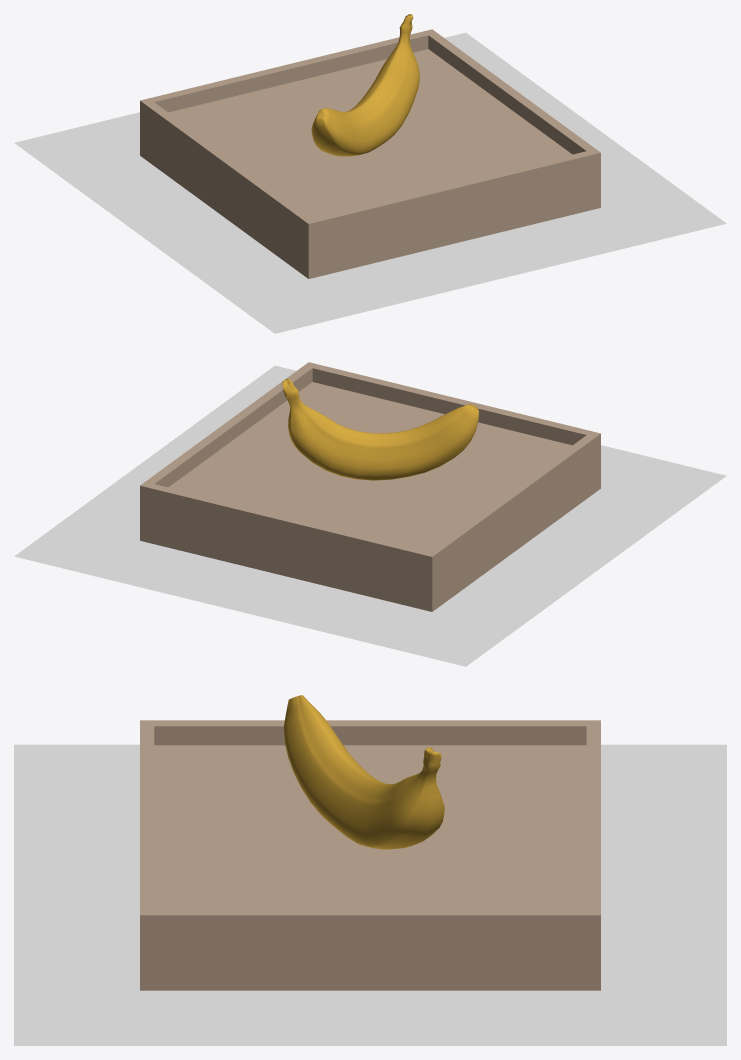
Rendered from banana.dae.
3 views of the same model, one above another, from view 1: azimuth 30°, elevation 25°; view 2: azimuth 150°, elevation 25°; view 3: azimuth 270°, elevation 25° (orthographic). The views are drawn at different scales.
Parts seen in each view (by area): view 1: Mesh, Plane, Mesh__2___2__001; view 2: Mesh, Plane, Mesh__2___2__001; view 3: Mesh, Plane, Mesh__2___2__001.
Boxes of the visible parts, x1,y1,x2,y2 form: Mesh: (140, 29, 600, 278); Plane: (14, 32, 726, 333); Mesh__2___2__001: (311, 14, 419, 156); Mesh: (140, 362, 600, 611); Plane: (14, 365, 726, 666); Mesh__2___2__001: (282, 378, 478, 480); Mesh: (140, 720, 600, 990); Plane: (14, 744, 726, 1045); Mesh__2___2__001: (283, 695, 444, 849).
Size of the model in its own units: 2 by 2 by 0.5815.
